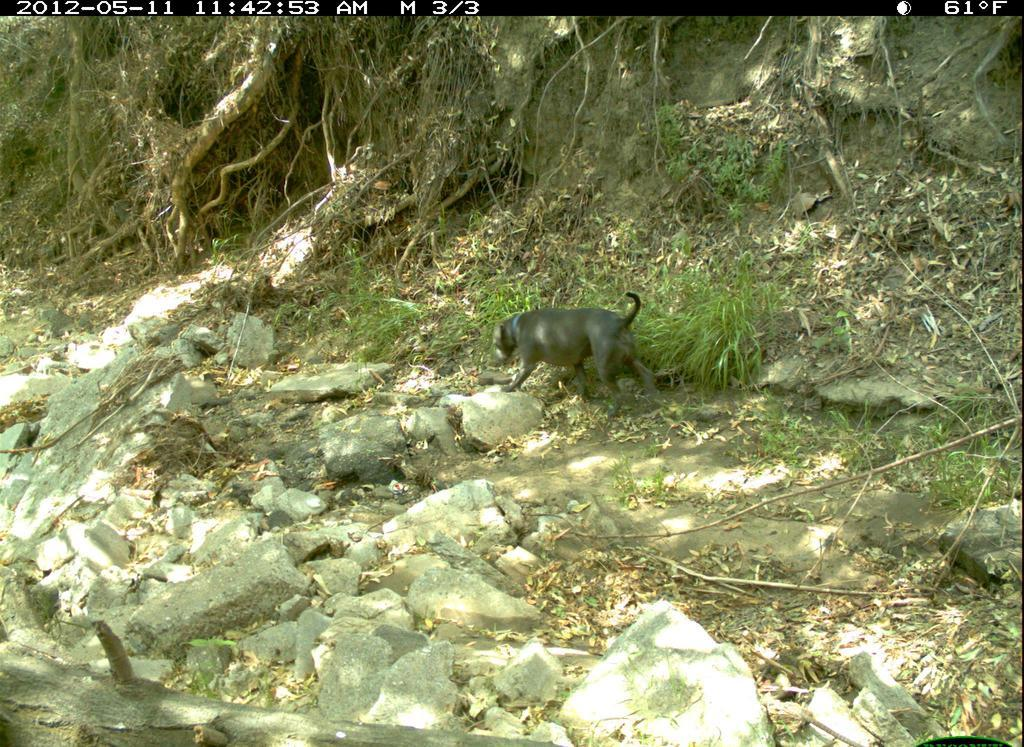dog: (478, 272, 676, 419)
